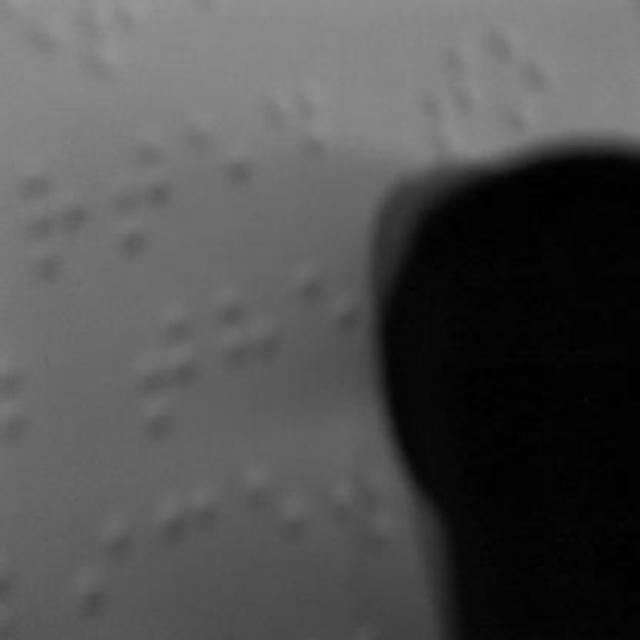braiile: (127, 288, 211, 448), (13, 145, 97, 291), (106, 117, 184, 273), (265, 66, 337, 232), (184, 94, 258, 246), (212, 272, 284, 424), (76, 492, 148, 640), (417, 34, 489, 168), (491, 17, 555, 141)
